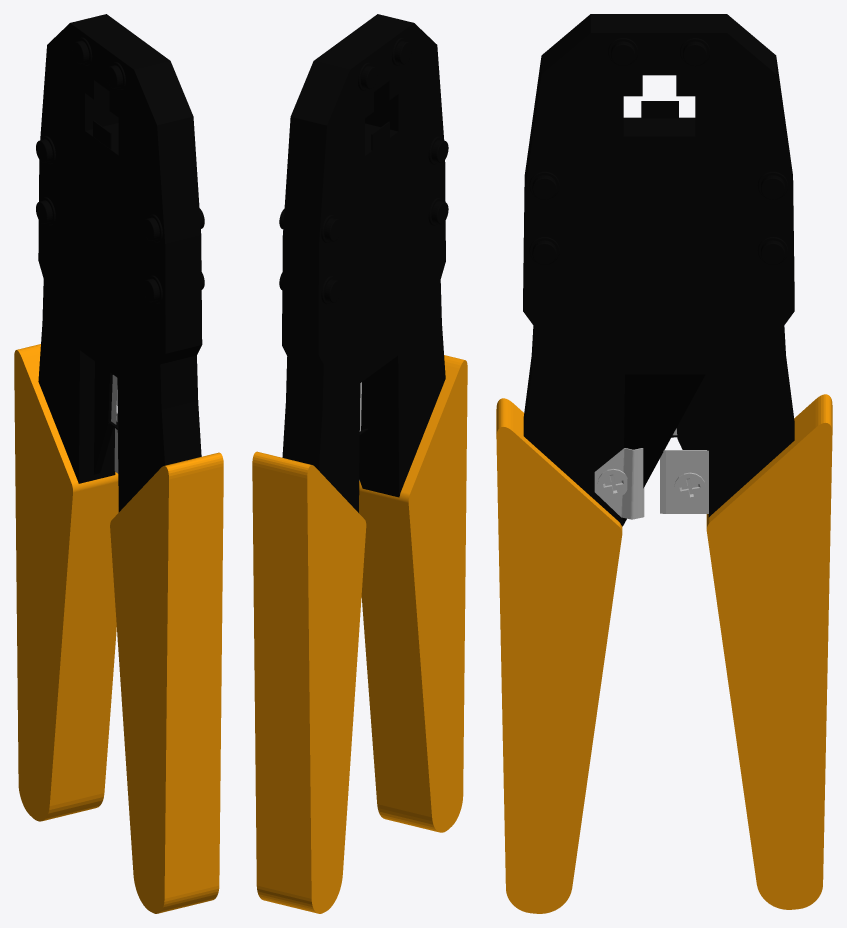
Rendered from Crimping Tool.fbx.
3 renders of one model, left to right at view 1: azimuth 30°, elevation 25°; view 2: azimuth 150°, elevation 25°; view 3: azimuth 270°, elevation 25°, orthographic. The views are drawn at different scales.
Parts seen in each view (by area): view 1: Cube.002, Cube, Cube.008, Cube.003, Cylinder.002, Cylinder.003, Cylinder, Cylinder.001, Cylinder.004; view 2: Cube.002, Cube.008, Cube, Cylinder, Cylinder.001, Cylinder.002; view 3: Cube.002, Cube.008, Cube, Cube.001, Cube.004, Cube.003, Cylinder, Cylinder.002, Cylinder.003, Cylinder.004, Cylinder.005, Cylinder.001 (+1 smaller).
Part boxes in pixels (x1,y1,x2,y2): Cube.002: (38, 14, 202, 512); Cube: (110, 452, 223, 913); Cube.008: (14, 344, 118, 821); Cube.003: (94, 361, 113, 474); Cylinder.002: (143, 208, 204, 242); Cylinder.003: (143, 272, 204, 303); Cylinder: (36, 136, 55, 163); Cylinder.001: (36, 197, 55, 225); Cylinder.004: (72, 37, 92, 65); Cube.002: (282, 14, 445, 512); Cube.008: (252, 451, 366, 913); Cube: (359, 355, 467, 832); Cylinder: (279, 208, 341, 242); Cylinder.001: (279, 272, 341, 304); Cylinder.002: (428, 136, 448, 164); Cube.002: (523, 14, 794, 526); Cube.008: (706, 394, 832, 909); Cube: (496, 398, 622, 913); Cube.001: (660, 450, 708, 513); Cube.004: (594, 448, 644, 519); Cube.003: (676, 375, 706, 449); Cylinder: (757, 171, 788, 199); Cylinder.002: (529, 171, 559, 199); Cylinder.003: (529, 237, 559, 264); Cylinder.004: (680, 38, 710, 66); Cylinder.005: (608, 38, 638, 65); Cylinder.001: (757, 237, 788, 264).
Bounding box in the file's own units: 31.44 × 430 × 149.
